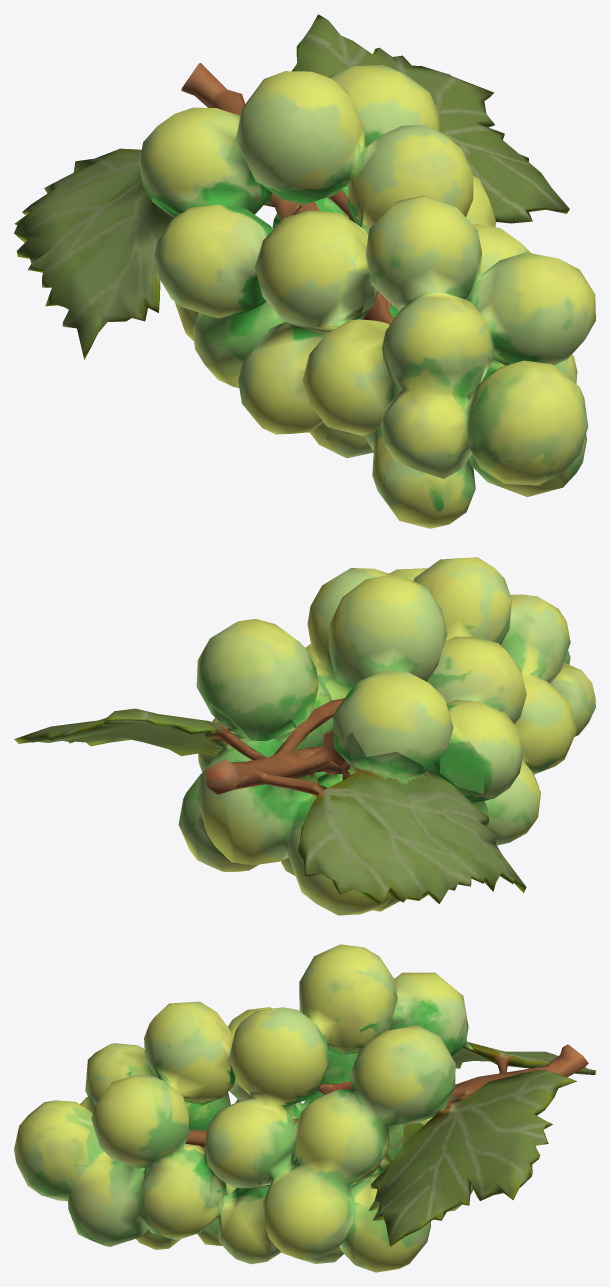
The model's file is grapesMP.fbx.
The picture shows the model from 3 angles, top to bottom: view 1: azimuth 30°, elevation 25°; view 2: azimuth 150°, elevation 25°; view 3: azimuth 270°, elevation 25°; orthographic projection. The views are drawn at different scales.
Visible parts, largest first — view 1: NL_GrapesMP; view 2: NL_GrapesMP; view 3: NL_GrapesMP.
Boxes of the visible parts, bbox=[...] form: NL_GrapesMP: bbox=[14, 14, 595, 528]; NL_GrapesMP: bbox=[14, 557, 595, 915]; NL_GrapesMP: bbox=[14, 944, 595, 1272].
Bounding box in the file's own units: 8.64 × 6.36 × 11.3.
